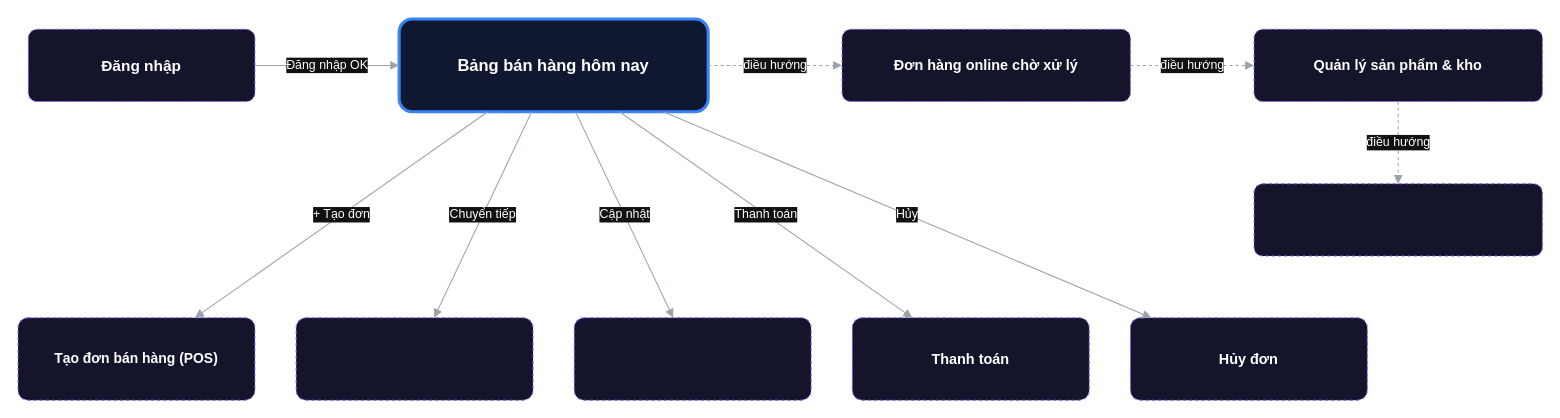
Image size: 1560x418. Some labels were removed from this diagram. Here are the shapes that lost their labels. From the top down, the box of each, then its label:
(1253, 183, 1542, 256): Quản lý tài khoản
(295, 317, 533, 400): Cập nhật đơn online
(573, 317, 811, 400): Nhập kho
